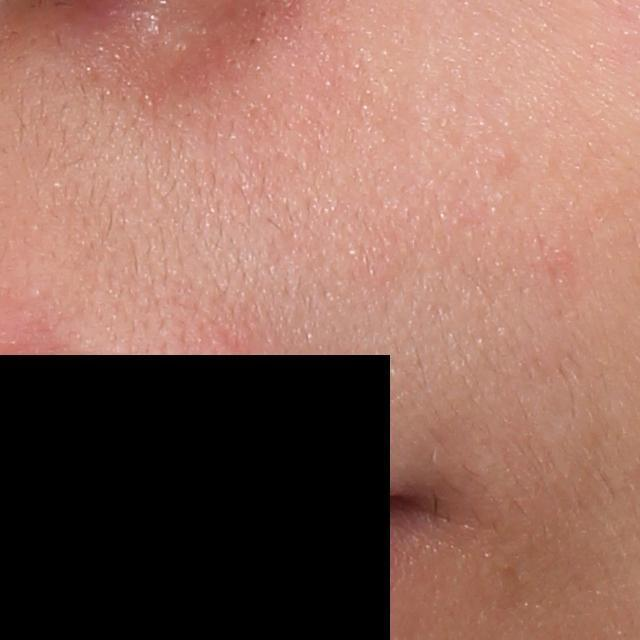comedo: (494, 145, 514, 163)
